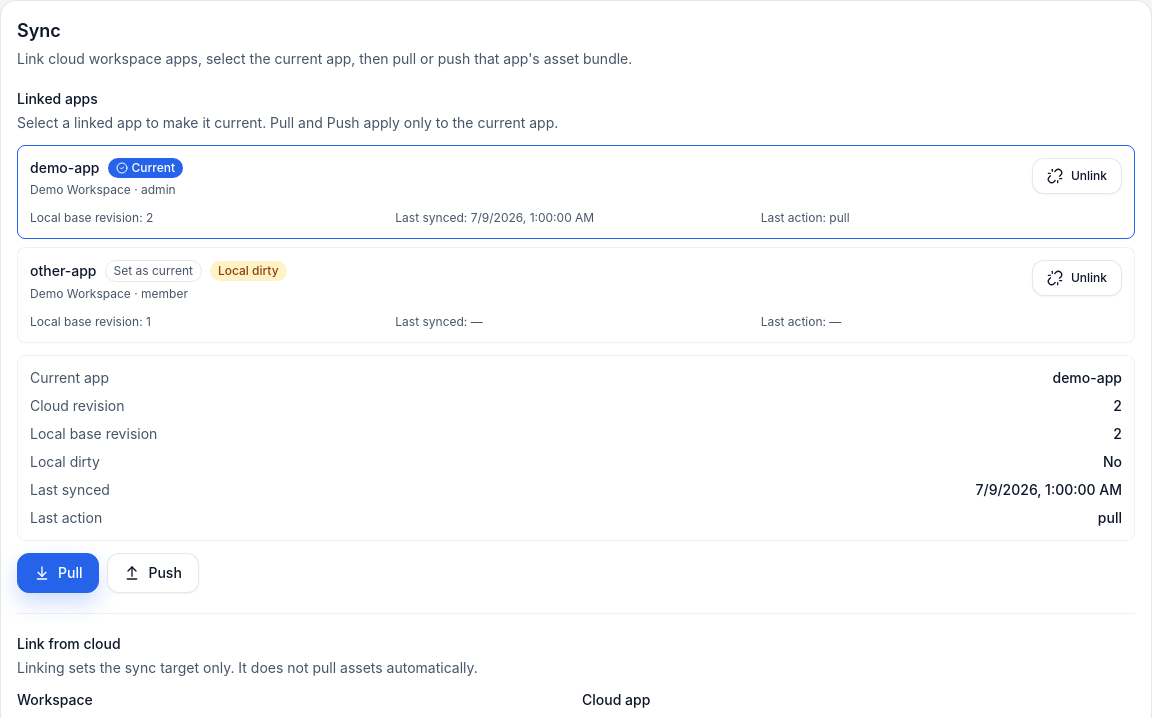
Scenario: CloudSyncCard › opens local dirty conflict modal when pull returns 409
Click the button "Pull" at (58, 573), box [17,553,100,593]
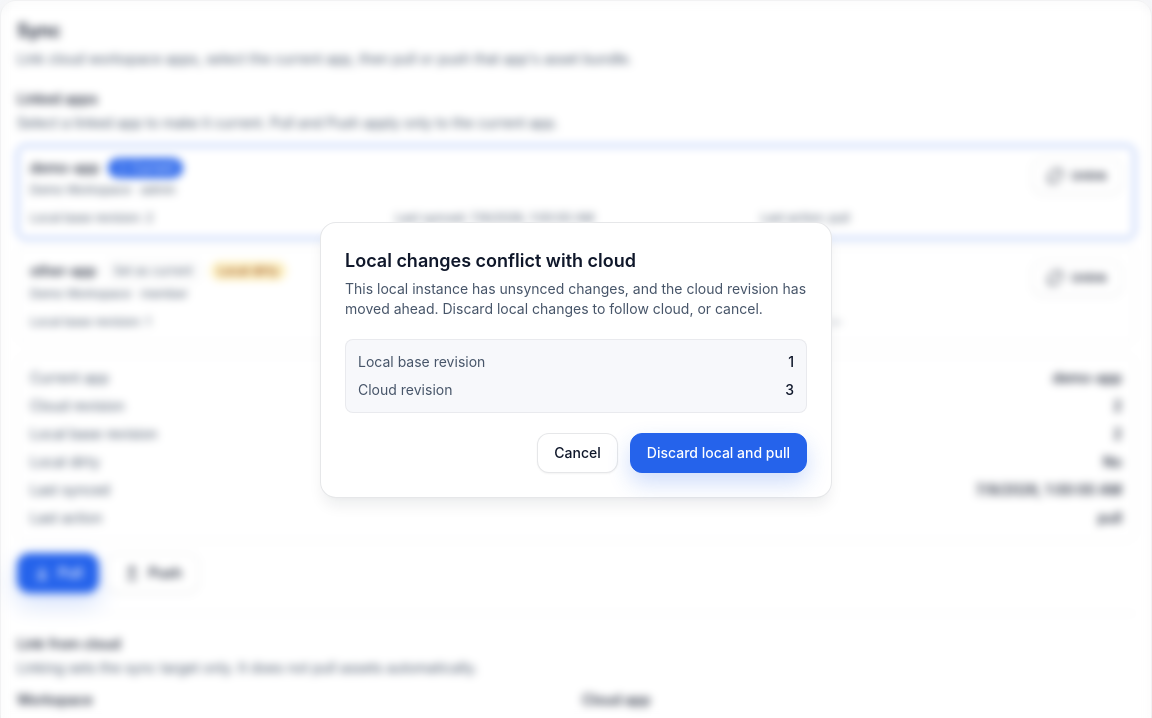
Expected: the text "Local changes conflict with cloud" is shown, [345,250,636,271]
Expected: the text "Discard local and pull" is shown
Click the button "Discard local and pull" at (718, 453), box [630,433,807,473]
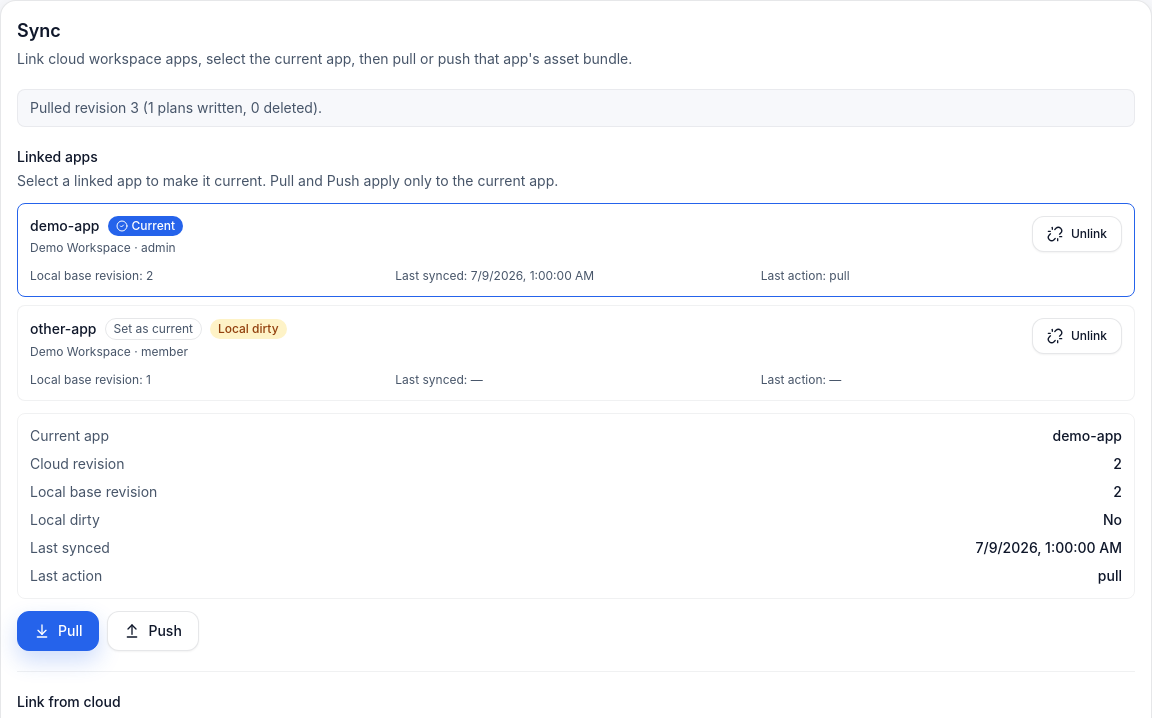
Expected: the text "Pulled revision 3" is shown, [30,99,322,116]
